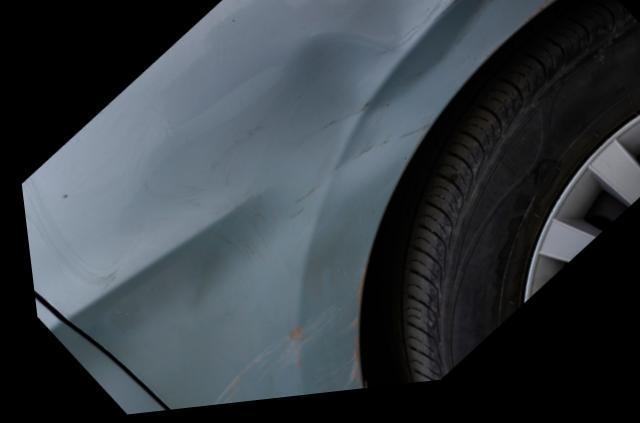dent: (17, 0, 512, 412)
